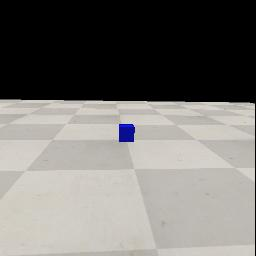box: (119, 124, 135, 142)
